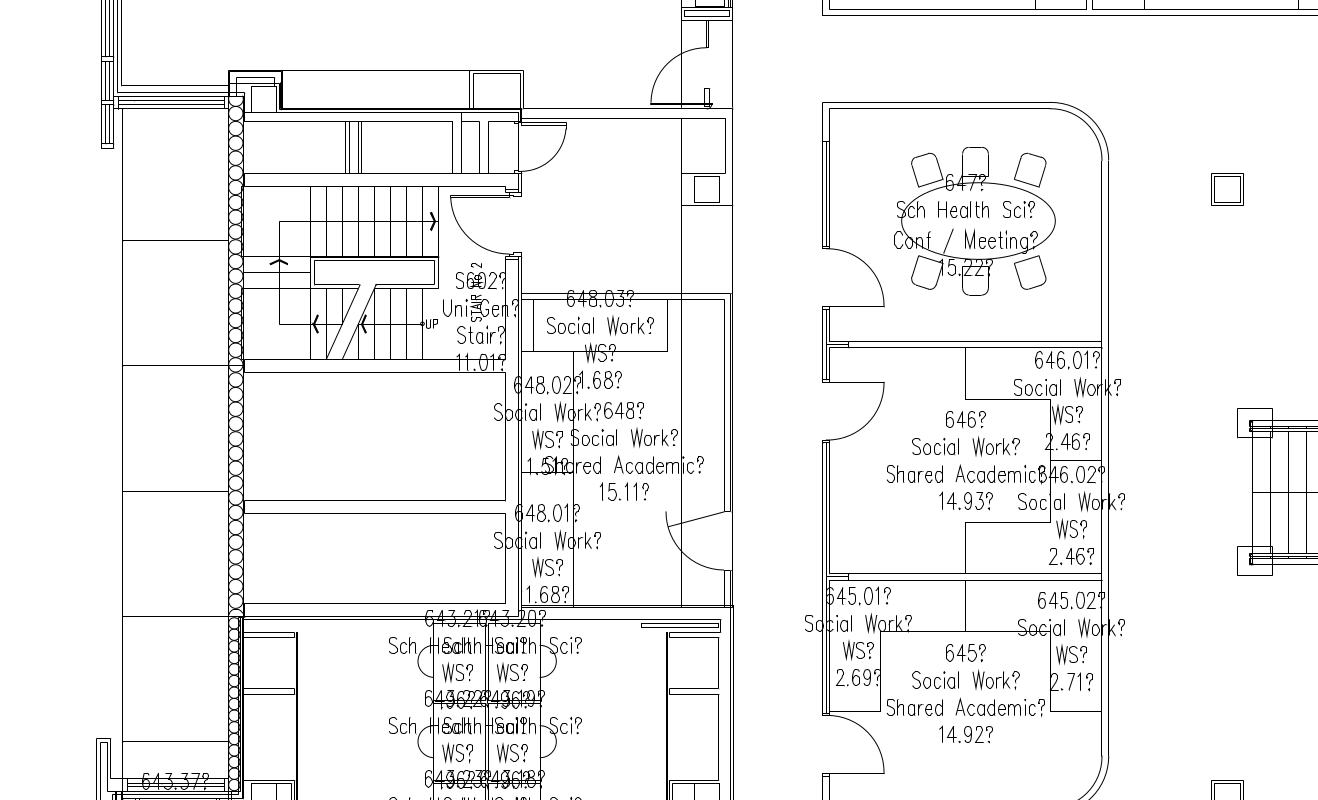door: (820, 243, 886, 312), (823, 375, 889, 444), (643, 39, 709, 108), (445, 192, 511, 256), (660, 506, 726, 570), (822, 711, 888, 775), (521, 119, 571, 181)
